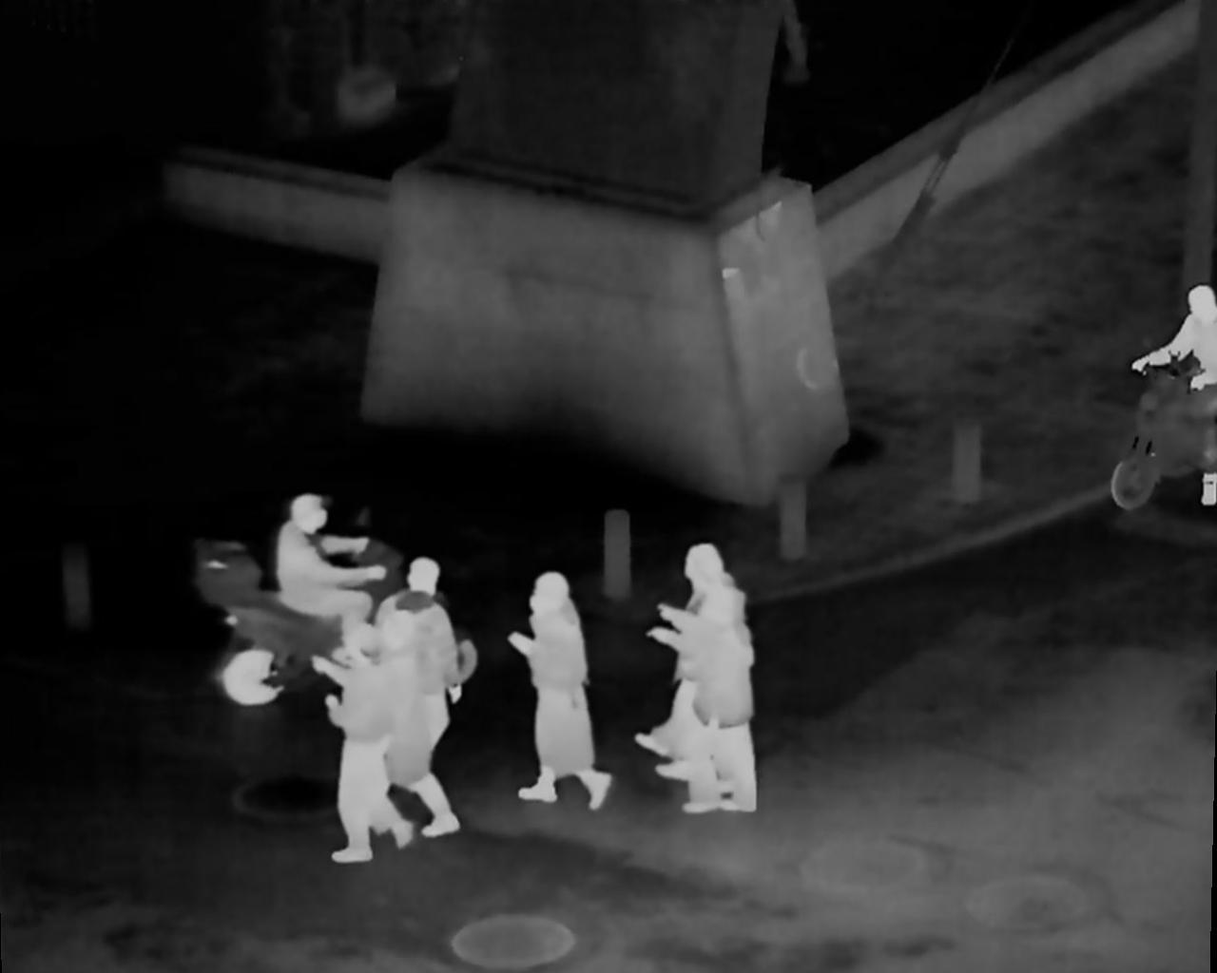person: (641, 541, 737, 775), (503, 566, 606, 783), (677, 587, 763, 817), (396, 546, 450, 845), (1146, 286, 1217, 503), (312, 629, 380, 855), (278, 488, 360, 660)
